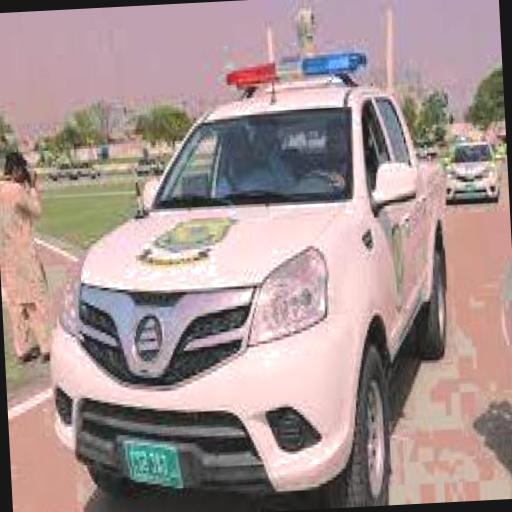Ambulance: (33, 49, 460, 512)
